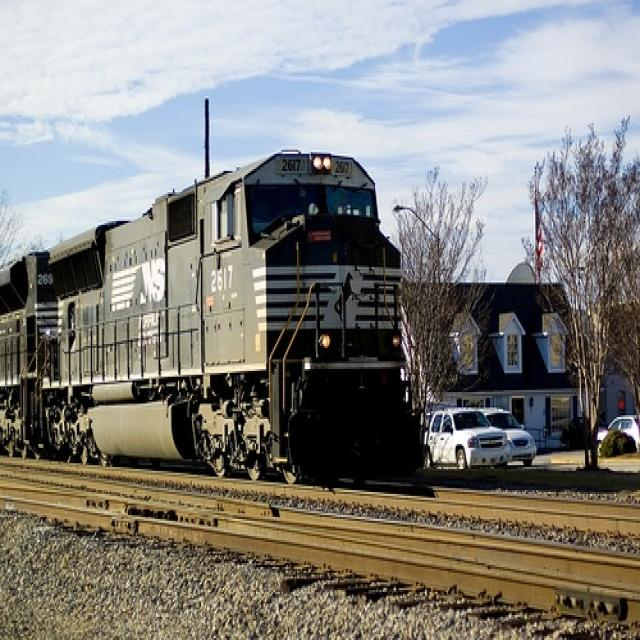car: (422, 406, 512, 465), (488, 406, 540, 465), (592, 410, 638, 458)
train: (0, 150, 439, 496)
